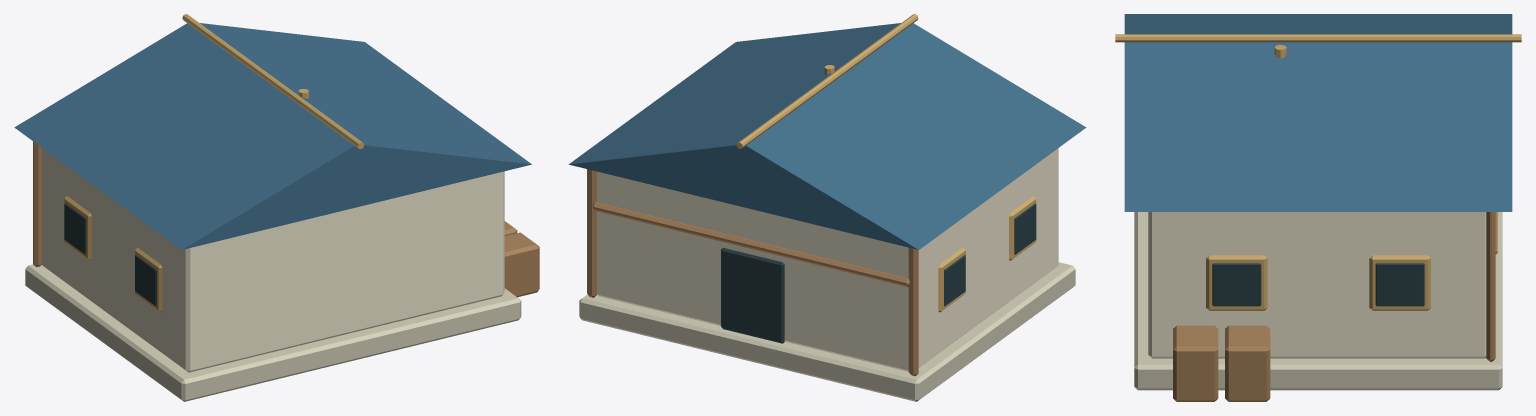
The model's file is level_04.glb.
3 views of the same model, side by side, from view 1: azimuth 30°, elevation 25°; view 2: azimuth 150°, elevation 25°; view 3: azimuth 270°, elevation 25° (orthographic). The views are drawn at different scales.
Parts seen in each view (by area): view 1: warehouse — level 04; view 2: warehouse — level 04; view 3: warehouse — level 04.
Part boxes in pixels (bbox=[...]): warehouse — level 04: bbox=[14, 14, 539, 401]; warehouse — level 04: bbox=[569, 14, 1086, 401]; warehouse — level 04: bbox=[1115, 14, 1521, 401].
Bounding box in the file's own units: 5.38 × 3.05 × 4.3.
